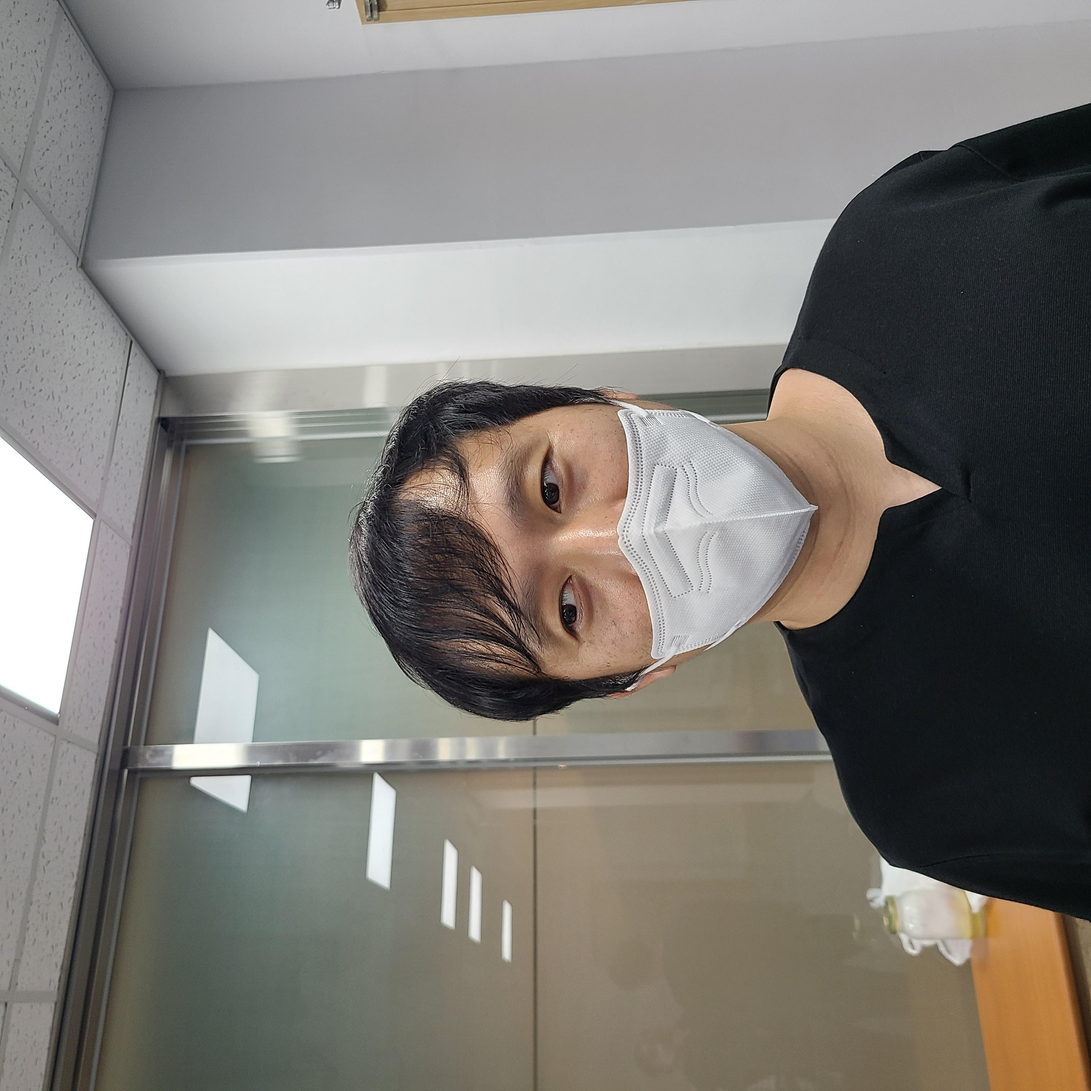earphone: (398, 615, 415, 640)
